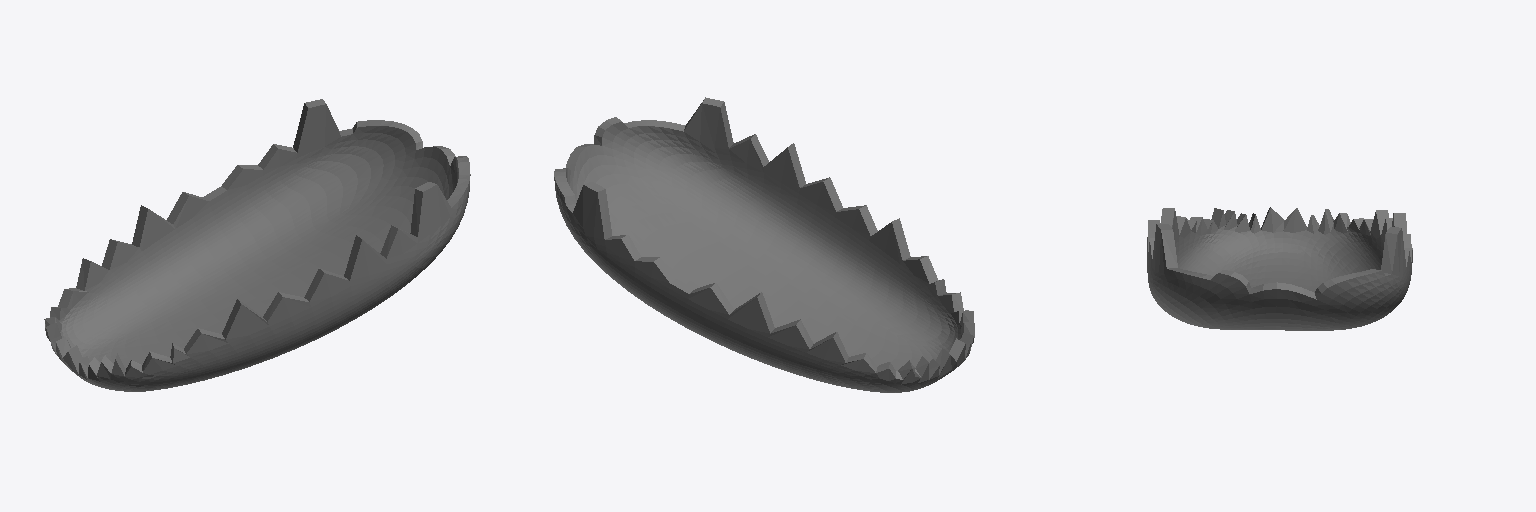
Rendered from goddard_mandibula.obj.
The picture shows the model from 3 angles: view 1: azimuth 30°, elevation 25°; view 2: azimuth 150°, elevation 25°; view 3: azimuth 270°, elevation 25°; orthographic projection.
Visible parts, largest first — view 1: mandibula_inferior; view 2: mandibula_inferior; view 3: mandibula_inferior.
Boxes of the visible parts, x1,y1,x2,y2 form: mandibula_inferior: [44, 99, 470, 391]; mandibula_inferior: [554, 97, 974, 392]; mandibula_inferior: [1147, 207, 1412, 330].
Bounding box in the file's own units: 2.7 × 1.14 × 1.61.